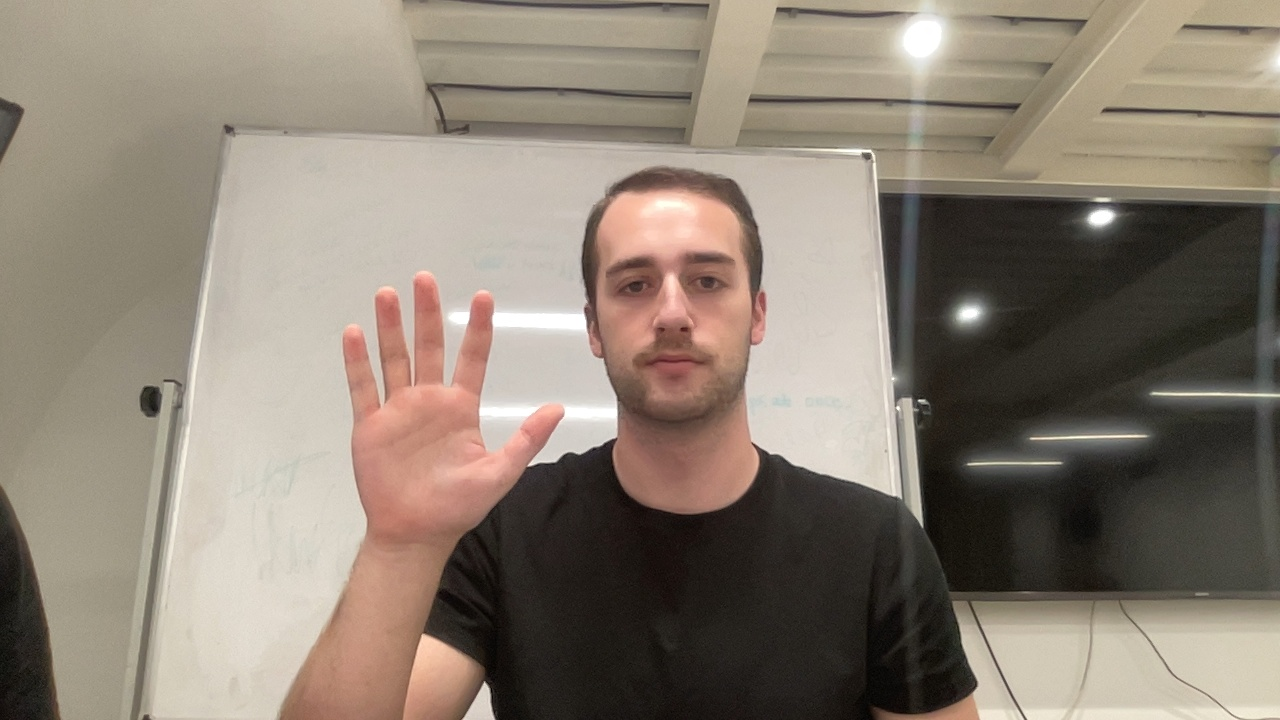Hello: (338, 268, 567, 559)
